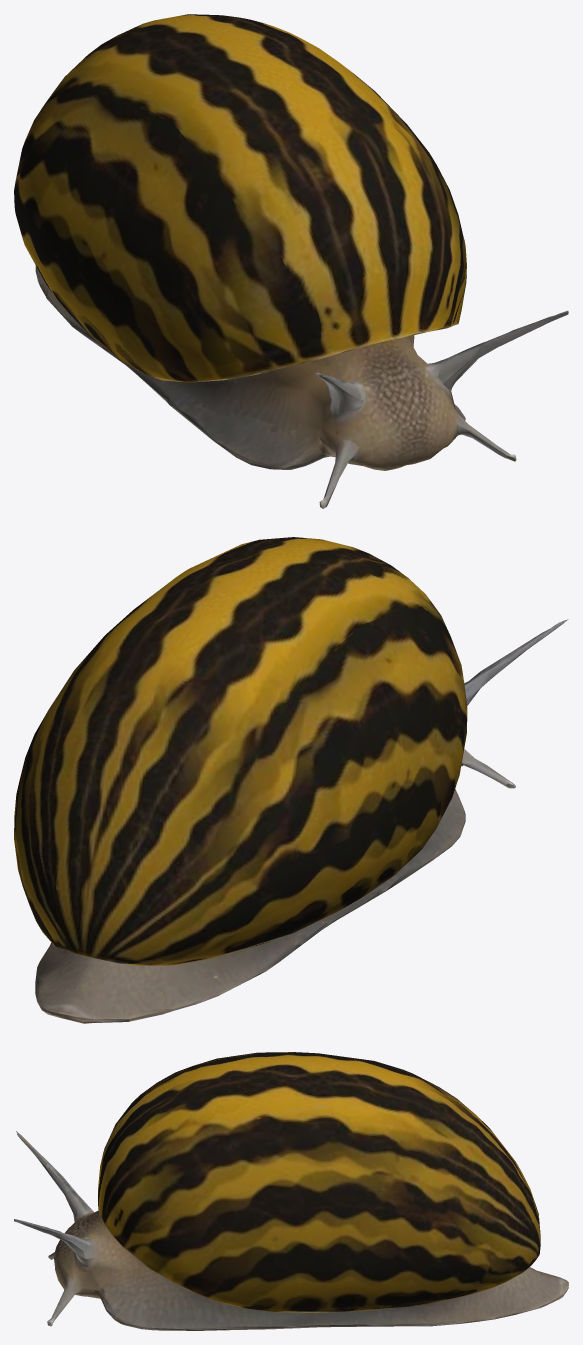
File: snail_nerite.glb
3 renders of one model, top to bottom at view 1: azimuth 30°, elevation 25°; view 2: azimuth 150°, elevation 25°; view 3: azimuth 270°, elevation 25°, orthographic. The views are drawn at different scales.
Visible parts, largest first — view 1: Mesh0; view 2: Mesh0; view 3: Mesh0.
Boxes of the visible parts, x1,y1,x2,y2 form: Mesh0: [14, 14, 568, 508]; Mesh0: [14, 537, 568, 1023]; Mesh0: [14, 1052, 568, 1330].
Bounding box in the file's own units: 0.9029 × 0.8578 × 1.87.
1 material, 1 textured.
